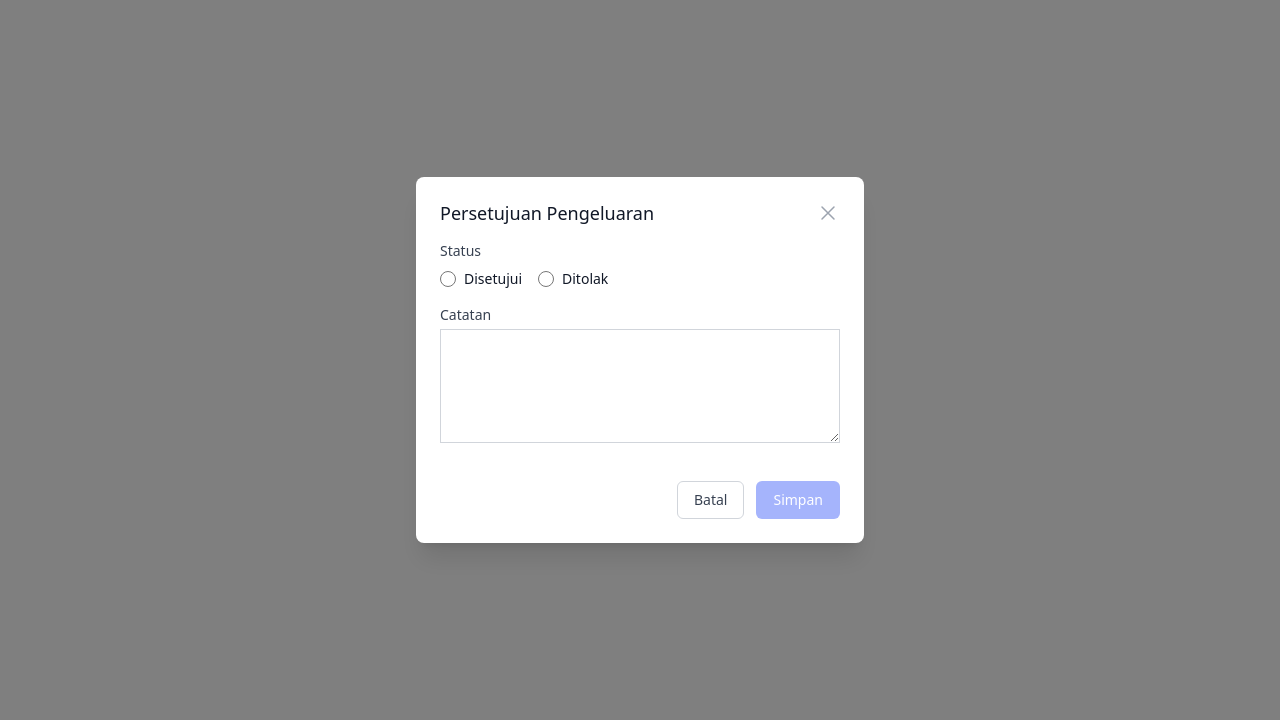
Test: ApprovalActionModal › show error message when error
Click the radio button with id "reject".
click(546, 279)  # box [538,271,554,287]
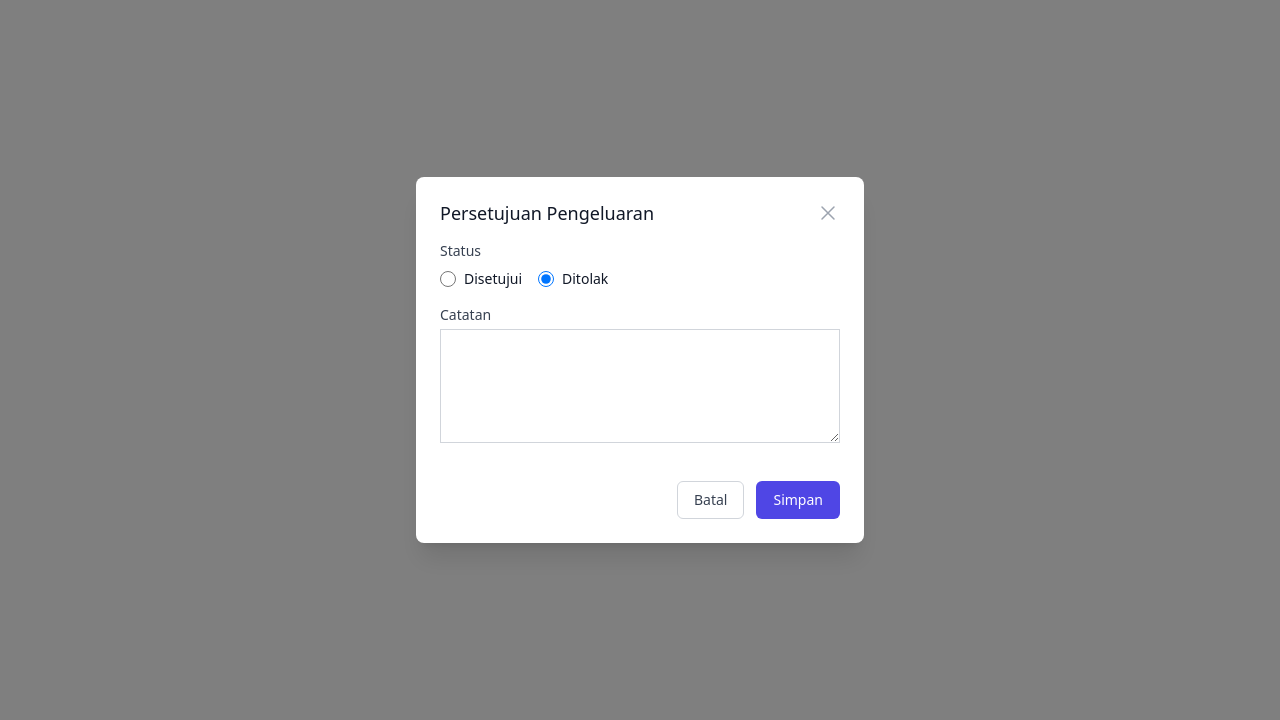
Type "Invalid reason" into the text box with id "notes".
click(640, 386); type("Invalid reason")  # box [440,329,840,443]
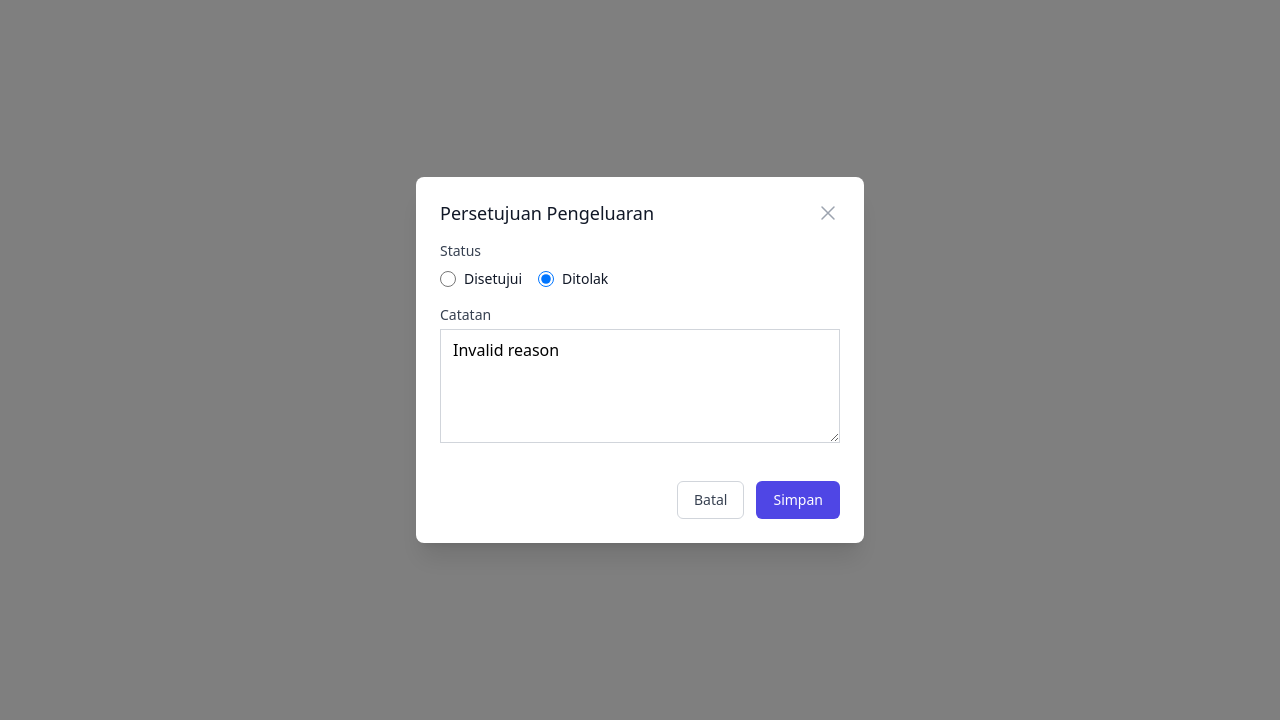
Submit the form, box [440,241,840,519]
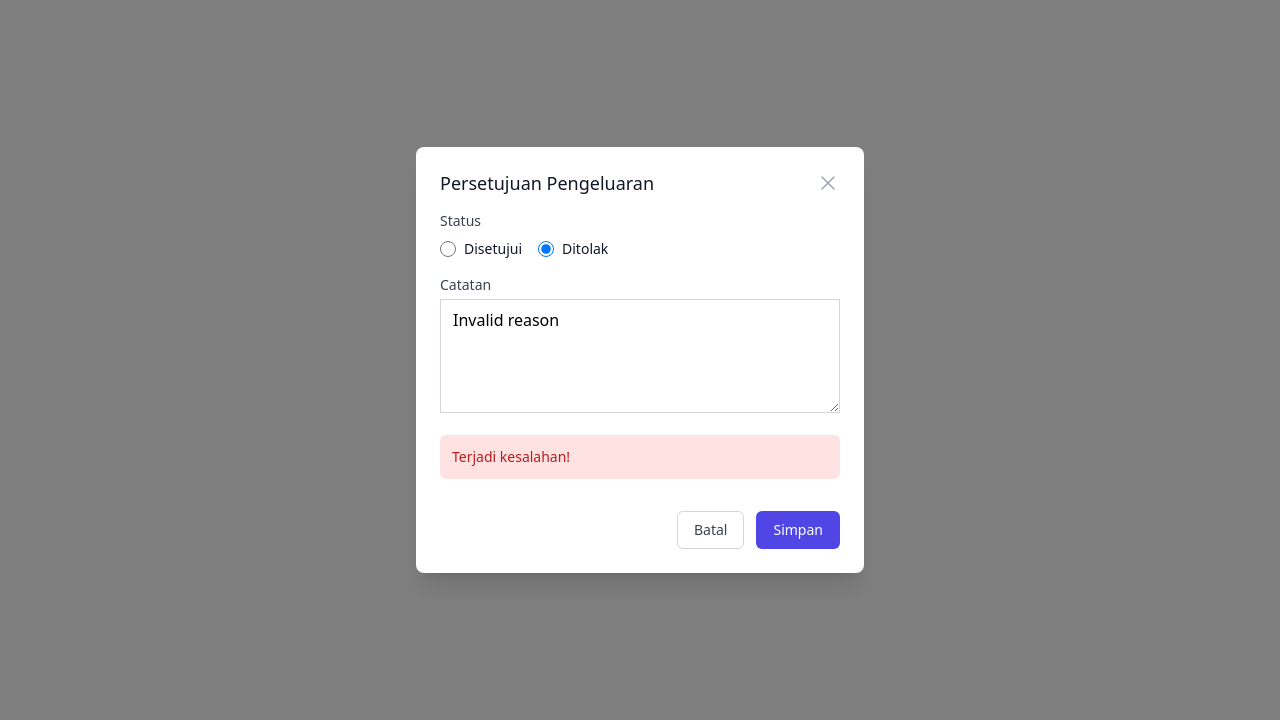
Expected: the text "Terjadi kesalahan!" is shown, [440,435,840,479]
